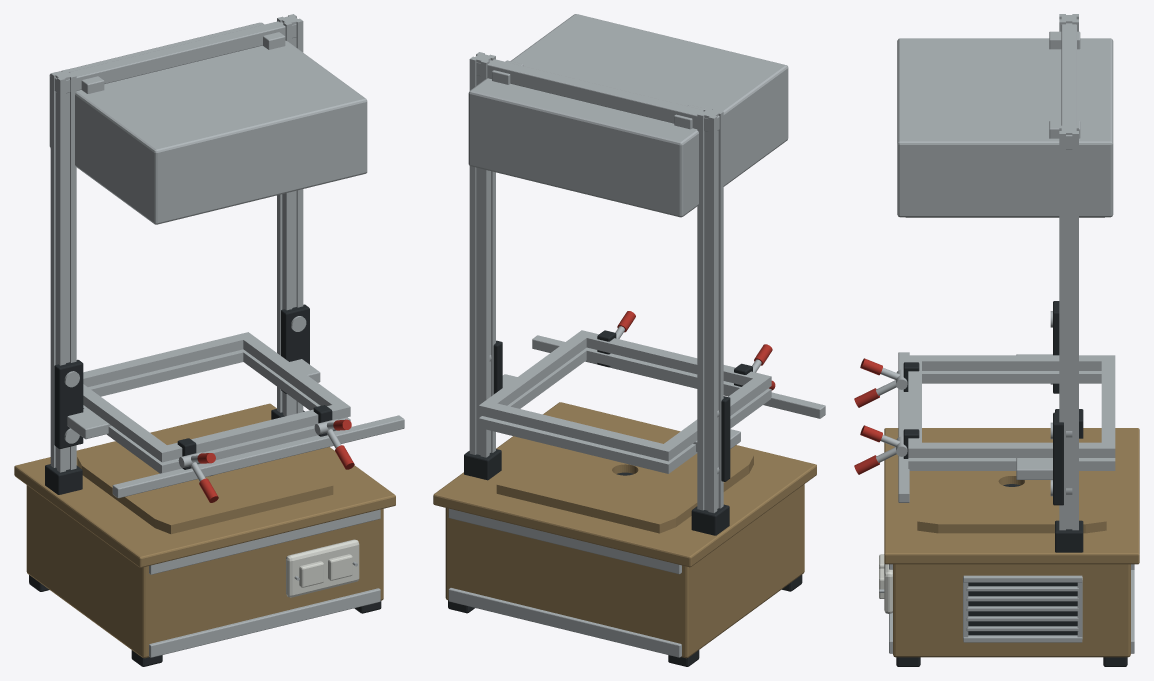
The picture shows the model from 3 angles, left to right: view 1: azimuth 30°, elevation 25°; view 2: azimuth 150°, elevation 25°; view 3: azimuth 270°, elevation 25°; orthographic projection.
Parts seen in each view (by area): view 1: Broad closed overhead heater hood, Closed self-contained lower cabinet, Top cabinet work surface, Wide platen with actual central circular opening, Upper raised sheet clamp frame, Tall profiled guide column -1, Lower raised sheet clamp frame, Tall profiled guide column 1, Top column crossmember, Front travelling crossrail, Cabinet transverse rail (-0.266, 0.045), Cabinet transverse rail (-0.266, 0.255) (+5 smaller); view 2: Broad closed overhead heater hood, Closed self-contained lower cabinet, Top cabinet work surface, Wide platen with actual central circular opening, Tall profiled guide column -1, Upper raised sheet clamp frame, Tall profiled guide column 1, Lower raised sheet clamp frame, Top column crossmember, Cabinet transverse rail (0.266, 0.045), Cabinet transverse rail (0.266, 0.255), Front travelling crossrail (+3 smaller); view 3: Broad closed overhead heater hood, Top cabinet work surface, Closed self-contained lower cabinet, Wide platen with actual central circular opening, Upper raised sheet clamp frame, Tall profiled guide column 1, Lower raised sheet clamp frame, Side vent dark backing, Top column crossmember, Front travelling crossrail, Original moving side carriage 1, Vent perimeter horizontal 0.23 (+9 smaller).
Boxes of the visible parts, x1=… form: Broad closed overhead heater hood: x1=49, y1=22, x2=367, y2=224; Closed self-contained lower cabinet: x1=26, y1=485, x2=383, y2=658; Top cabinet work surface: x1=14, y1=403, x2=395, y2=567; Wide platen with actual central circular opening: x1=77, y1=417, x2=333, y2=534; Upper raised sheet clamp frame: x1=83, y1=332, x2=350, y2=462; Tall profiled guide column -1: x1=50, y1=69, x2=76, y2=472; Lower raised sheet clamp frame: x1=83, y1=349, x2=350, y2=473; Tall profiled guide column 1: x1=277, y1=14, x2=303, y2=416; Top column crossmember: x1=54, y1=21, x2=296, y2=93; Front travelling crossrail: x1=112, y1=415, x2=404, y2=498; Cabinet transverse rail (-0.266, 0.045): x1=149, y1=588, x2=380, y2=657; Cabinet transverse rail (-0.266, 0.255): x1=149, y1=509, x2=380, y2=574; Broad closed overhead heater hood: x1=468, y1=14, x2=788, y2=217; Closed self-contained lower cabinet: x1=445, y1=484, x2=804, y2=658; Top cabinet work surface: x1=433, y1=402, x2=816, y2=567; Wide platen with actual central circular opening: x1=496, y1=415, x2=753, y2=533; Tall profiled guide column -1: x1=697, y1=107, x2=723, y2=512; Upper raised sheet clamp frame: x1=479, y1=330, x2=771, y2=461; Tall profiled guide column 1: x1=469, y1=52, x2=495, y2=457; Lower raised sheet clamp frame: x1=479, y1=347, x2=771, y2=473; Top column crossmember: x1=476, y1=59, x2=719, y2=131; Cabinet transverse rail (0.266, 0.045): x1=448, y1=588, x2=681, y2=657; Cabinet transverse rail (0.266, 0.255): x1=448, y1=508, x2=681, y2=574; Front travelling crossrail: x1=532, y1=335, x2=825, y2=418; Broad closed overhead heater hood: x1=897, y1=38, x2=1113, y2=217; Top cabinet work surface: x1=884, y1=428, x2=1139, y2=564; Closed self-contained lower cabinet: x1=893, y1=564, x2=1130, y2=657; Wide platen with actual central circular opening: x1=917, y1=438, x2=1106, y2=533; Upper raised sheet clamp frame: x1=908, y1=355, x2=1115, y2=457; Tall profiled guide column 1: x1=1059, y1=125, x2=1078, y2=530; Lower raised sheet clamp frame: x1=908, y1=371, x2=1115, y2=470; Side vent dark backing: x1=968, y1=582, x2=1077, y2=635; Top column crossmember: x1=1061, y1=23, x2=1076, y2=149; Front travelling crossrail: x1=898, y1=352, x2=909, y2=502; Original moving side carriage 1: x1=1053, y1=412, x2=1063, y2=505; Vent perimeter horizontal 0.23: x1=963, y1=575, x2=1082, y2=582.
Size of the model in its own units: 76 by 134 by 64.78.
